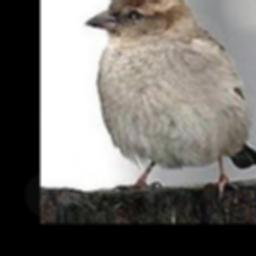Sparrow: (85, 0, 256, 201)
